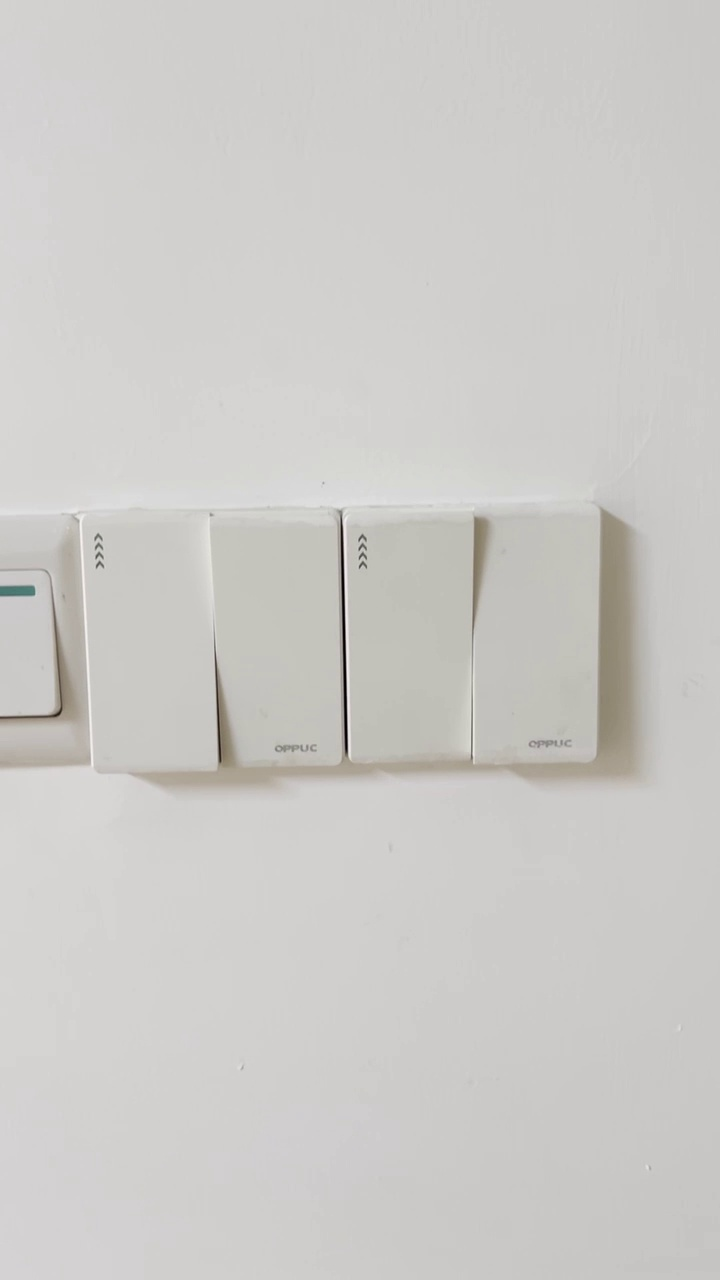button1: (78, 511, 220, 775), (214, 513, 343, 766), (344, 512, 471, 765), (478, 516, 595, 764)
